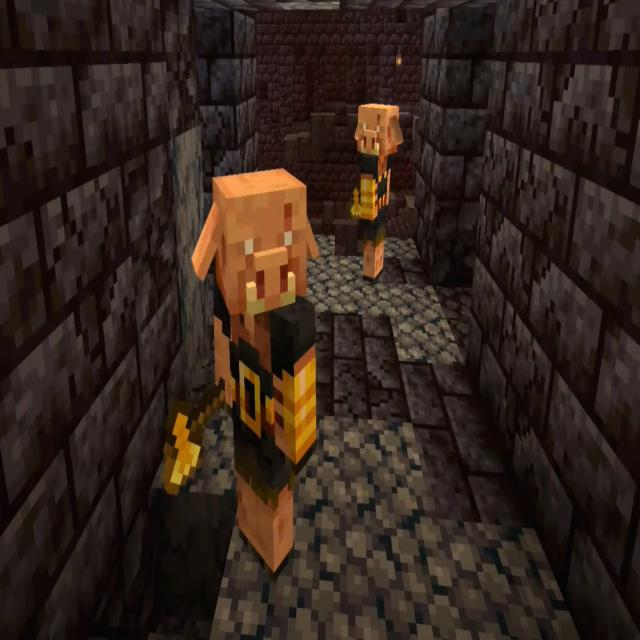Piglin: (161, 163, 321, 579), (349, 99, 403, 282)
